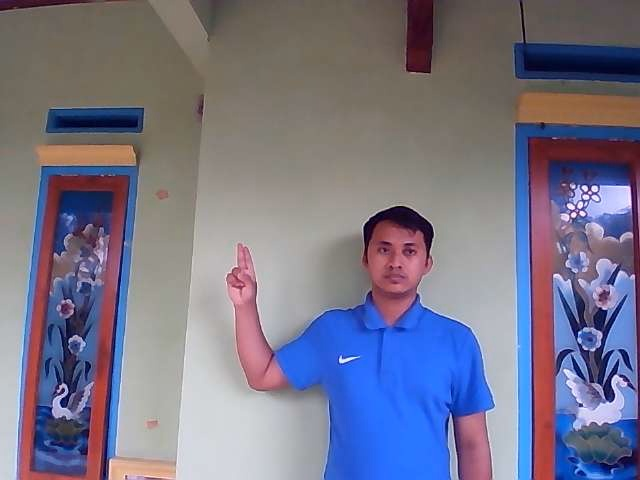U: (225, 242, 258, 306)
